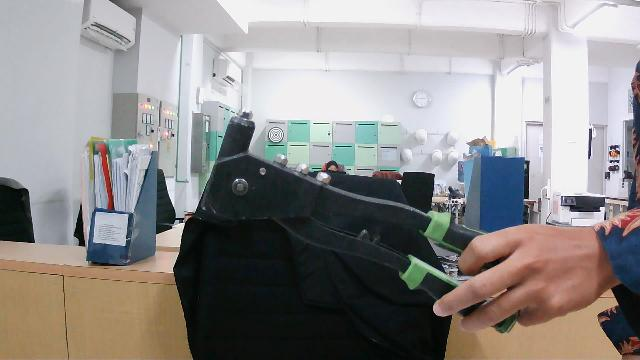tang_rivet: (185, 94, 530, 345)
